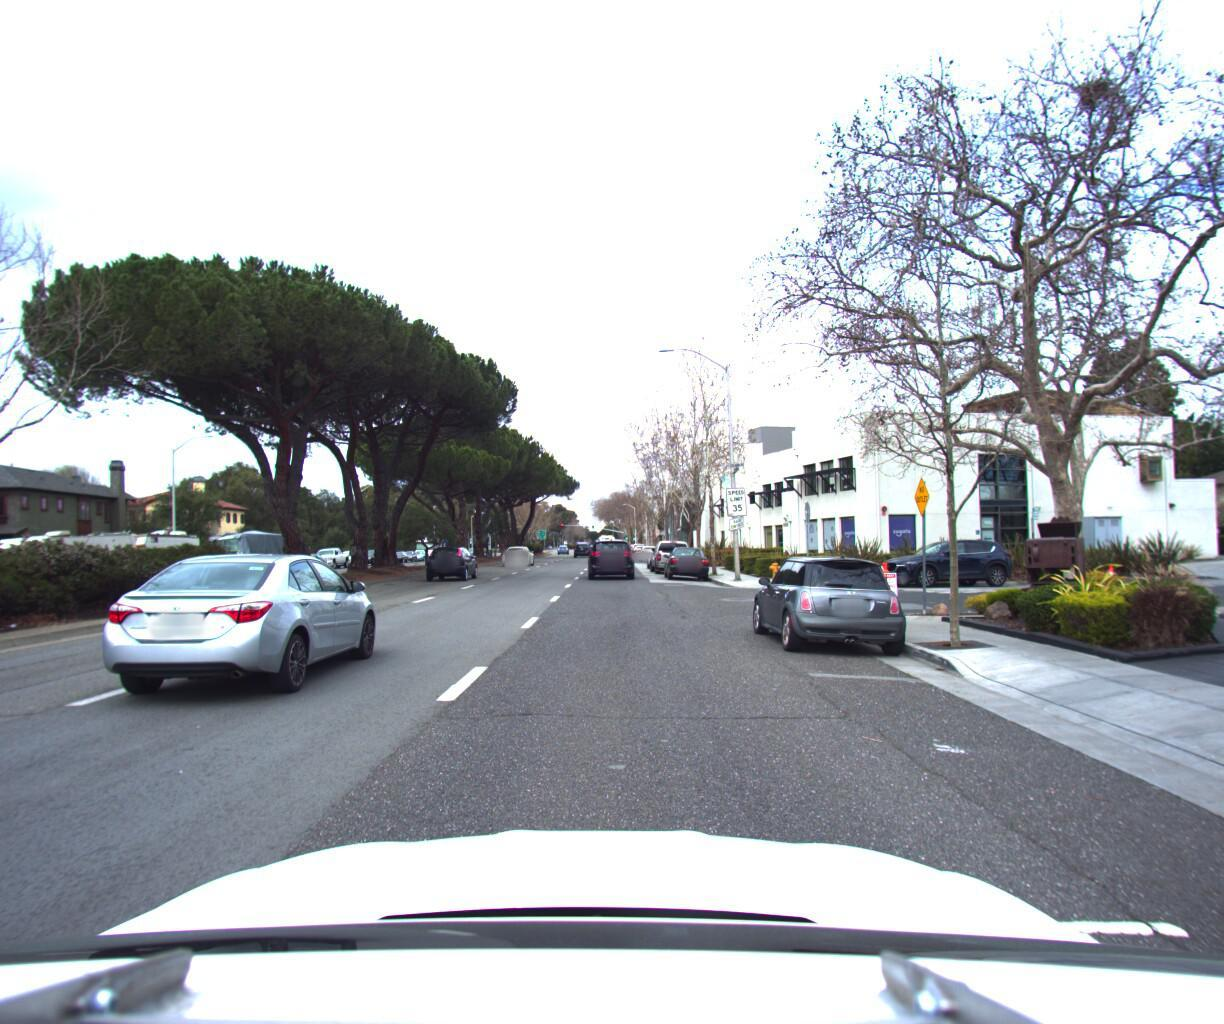car: (77, 543, 394, 707), (742, 544, 914, 663), (869, 528, 1018, 582), (586, 529, 636, 574), (423, 536, 480, 575), (647, 529, 698, 568), (661, 538, 713, 575), (309, 539, 355, 563), (499, 534, 534, 556), (636, 535, 661, 554)
other_vehicle: (0, 520, 150, 590), (99, 520, 212, 581), (205, 519, 295, 571)
